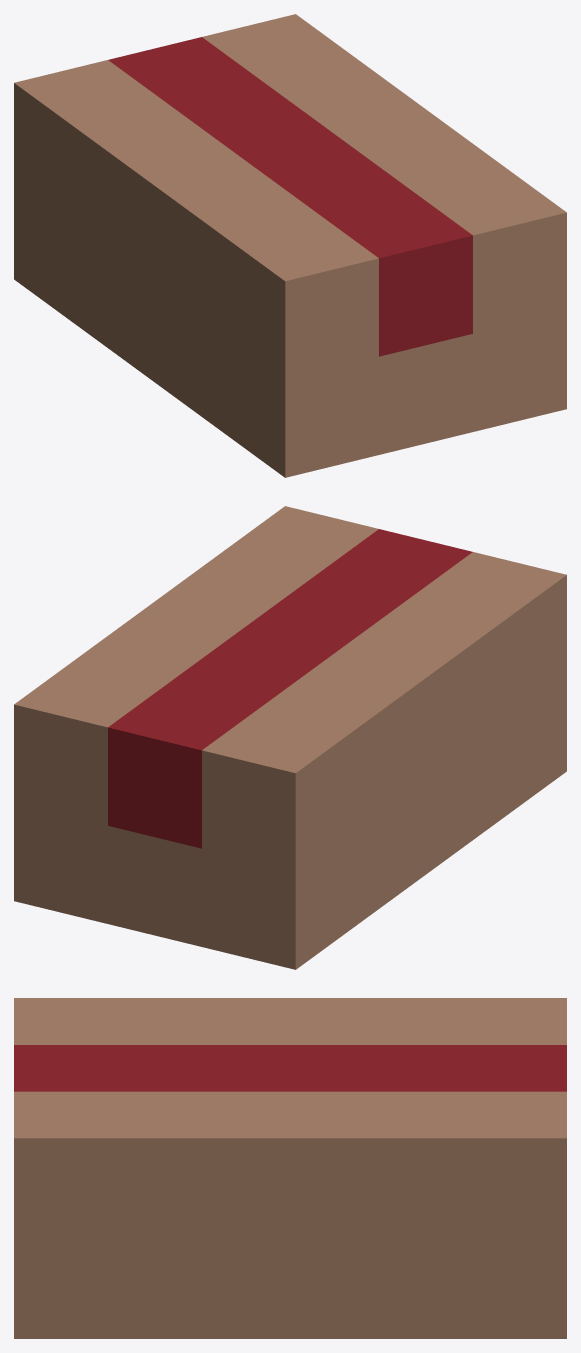
File: Picnic_Food_Hotdog_Cooked.glb
The picture shows the model from 3 angles, top to bottom: view 1: azimuth 30°, elevation 25°; view 2: azimuth 150°, elevation 25°; view 3: azimuth 270°, elevation 25°; orthographic projection.
Visible parts, largest first — view 1: Picnic_Food_Hotdog_Cooked; view 2: Picnic_Food_Hotdog_Cooked; view 3: Picnic_Food_Hotdog_Cooked.
Part boxes in pixels (box(x1,y1,x2,y2)): Picnic_Food_Hotdog_Cooked: box(14, 14, 566, 477); Picnic_Food_Hotdog_Cooked: box(14, 506, 566, 969); Picnic_Food_Hotdog_Cooked: box(14, 998, 566, 1338).
Size of the model in its own units: 0.3 by 0.2 by 0.5.
Materials: 1 (1 with a texture image).
